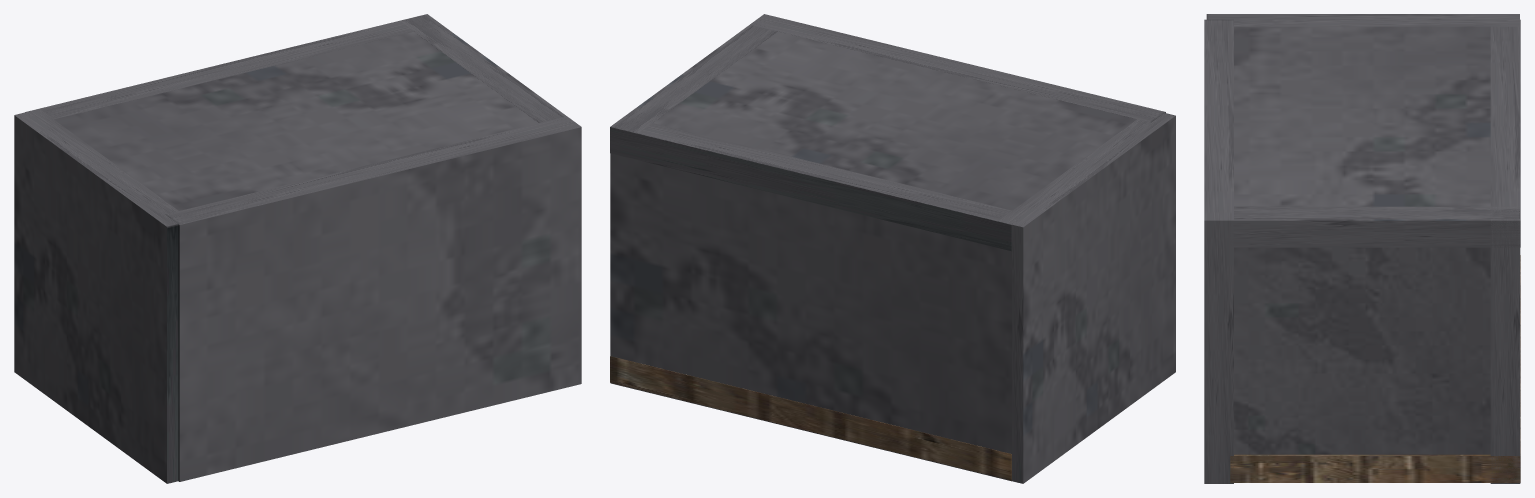
The picture shows the model from 3 angles, left to right: view 1: azimuth 30°, elevation 25°; view 2: azimuth 150°, elevation 25°; view 3: azimuth 270°, elevation 25°; orthographic projection. The views are drawn at different scales.
Parts seen in each view (by area): view 1: Cube.001, Cube.003, Cube.005, Cube.002, Cube.004; view 2: Cube.002, Cube.005, Cube.003, Cube, Cube.001, Cube.004; view 3: Cube.004, Cube.005, Cube.001, Cube.002, Cube, Cube.003.
Part boxes in pixels (left/top/right/bottom): Cube.001: left=165, top=116, right=581, bottom=481; Cube.003: left=14, top=109, right=190, bottom=483; Cube.005: left=25, top=14, right=566, bottom=210; Cube.002: left=28, top=14, right=441, bottom=119; Cube.004: left=400, top=15, right=563, bottom=122; Cube.002: left=610, top=116, right=1019, bottom=481; Cube.005: left=610, top=25, right=1136, bottom=251; Cube.003: left=998, top=113, right=1175, bottom=483; Cube: left=610, top=356, right=1011, bottom=480; Cube.001: left=750, top=14, right=1165, bottom=122; Cube.004: left=613, top=25, right=777, bottom=133; Cube.004: left=1234, top=206, right=1519, bottom=454; Cube.005: left=1230, top=20, right=1520, bottom=247; Cube.001: left=1204, top=19, right=1233, bottom=483; Cube.002: left=1490, top=20, right=1520, bottom=483; Cube: left=1230, top=255, right=1520, bottom=482; Cube.003: left=1206, top=14, right=1519, bottom=26.
Size of the model in its own units: 32.78 by 19.47 by 21.21.
6 materials, 6 textured.
